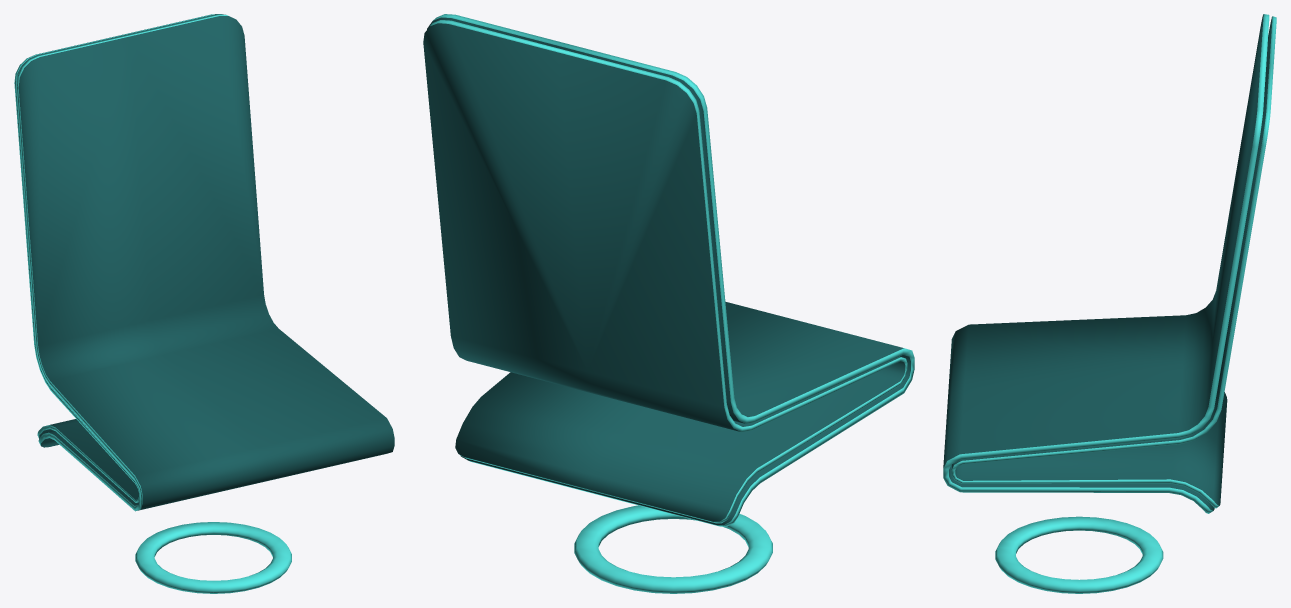
File: sci-fi_chair__.fbx
3 views of the same model, side by side, from view 1: azimuth 30°, elevation 25°; view 2: azimuth 150°, elevation 25°; view 3: azimuth 270°, elevation 25° (orthographic). The views are drawn at different scales.
Visible parts, largest first — view 1: lofi_chair, lofi_chair_torus; view 2: lofi_chair, lofi_chair_torus; view 3: lofi_chair, lofi_chair_torus.
Part boxes in pixels (x1,y1,x2,y2): lofi_chair: (14,14,394,511); lofi_chair_torus: (135,522,291,593); lofi_chair: (423,14,914,526); lofi_chair_torus: (574,505,772,593); lofi_chair: (943,14,1276,513); lofi_chair_torus: (995,516,1163,593).
Size of the model in its own units: 268 by 477 by 290.
